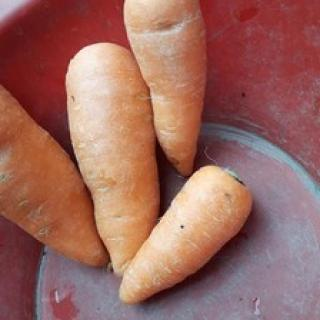carrot: (64, 43, 160, 275), (1, 80, 112, 269), (121, 165, 252, 305), (125, 0, 202, 176)
